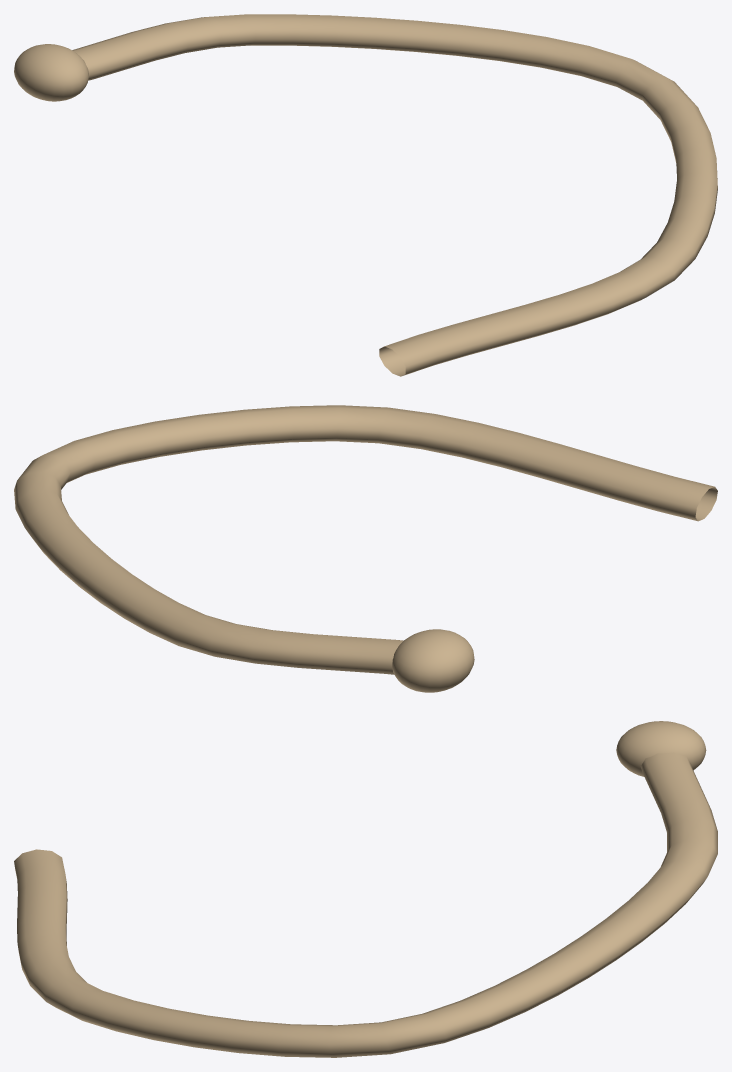
The model's file is left_rib_3.glb.
3 renders of one model, top to bottom at view 1: azimuth 30°, elevation 25°; view 2: azimuth 150°, elevation 25°; view 3: azimuth 270°, elevation 25°, orthographic. The views are drawn at different scales.
Parts seen in each view (by area): view 1: left_rib_3:costal-body, left_rib_3:head; view 2: left_rib_3:costal-body, left_rib_3:head; view 3: left_rib_3:costal-body, left_rib_3:head.
Part boxes in pixels (x1,y1,x2,y2): left_rib_3:costal-body: [72, 14, 717, 376]; left_rib_3:head: [14, 44, 88, 101]; left_rib_3:costal-body: [14, 405, 717, 674]; left_rib_3:head: [392, 629, 474, 692]; left_rib_3:costal-body: [14, 752, 717, 1057]; left_rib_3:head: [616, 721, 706, 776].
Bounding box in the file's own units: 0.369 × 0.081 × 0.405.
